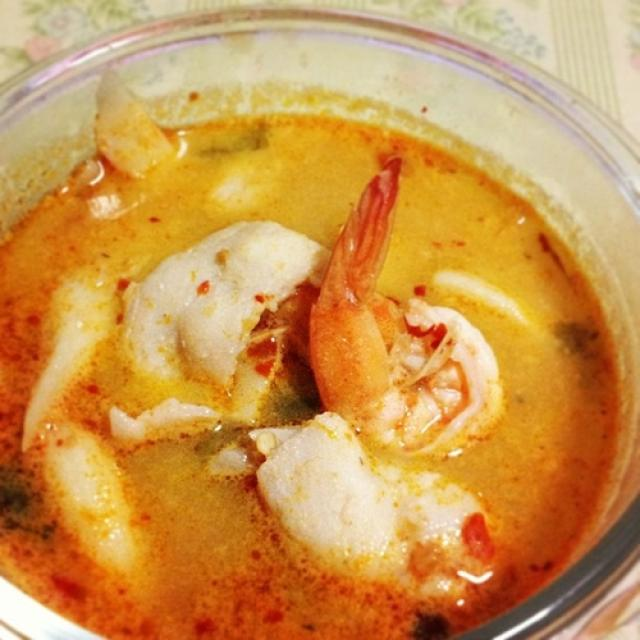汤锅炖物: (16, 55, 620, 626)
